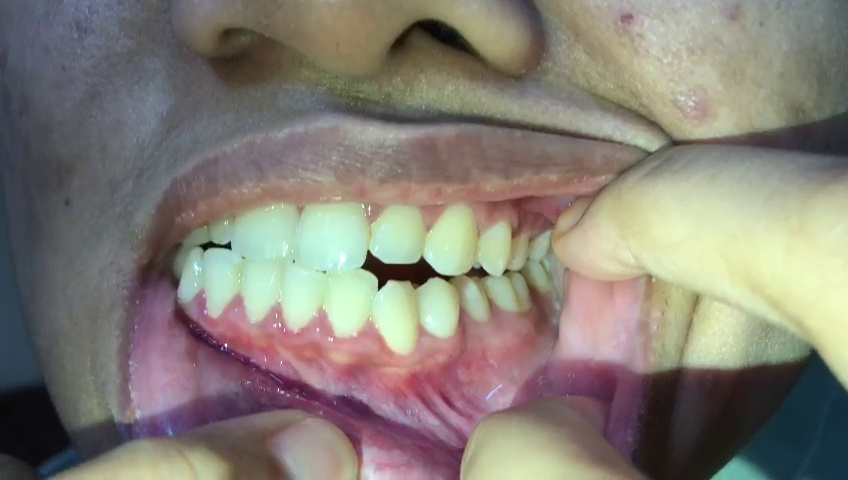1st Molar: (481, 272, 516, 314), (525, 224, 553, 265)
1st Premolar: (416, 278, 460, 338), (477, 218, 509, 277)
2nd Molar: (508, 271, 532, 314)
2nd Premolar: (453, 274, 489, 322), (508, 230, 527, 271)
3rd Molar: (526, 260, 556, 294)
Canine: (425, 201, 478, 277), (372, 278, 418, 353), (178, 247, 204, 305)
Central Incisor: (293, 197, 369, 268), (233, 188, 294, 263), (281, 268, 325, 334), (238, 257, 280, 325)
Lateral Incisor: (367, 198, 427, 265), (326, 267, 379, 337), (201, 245, 238, 318)
